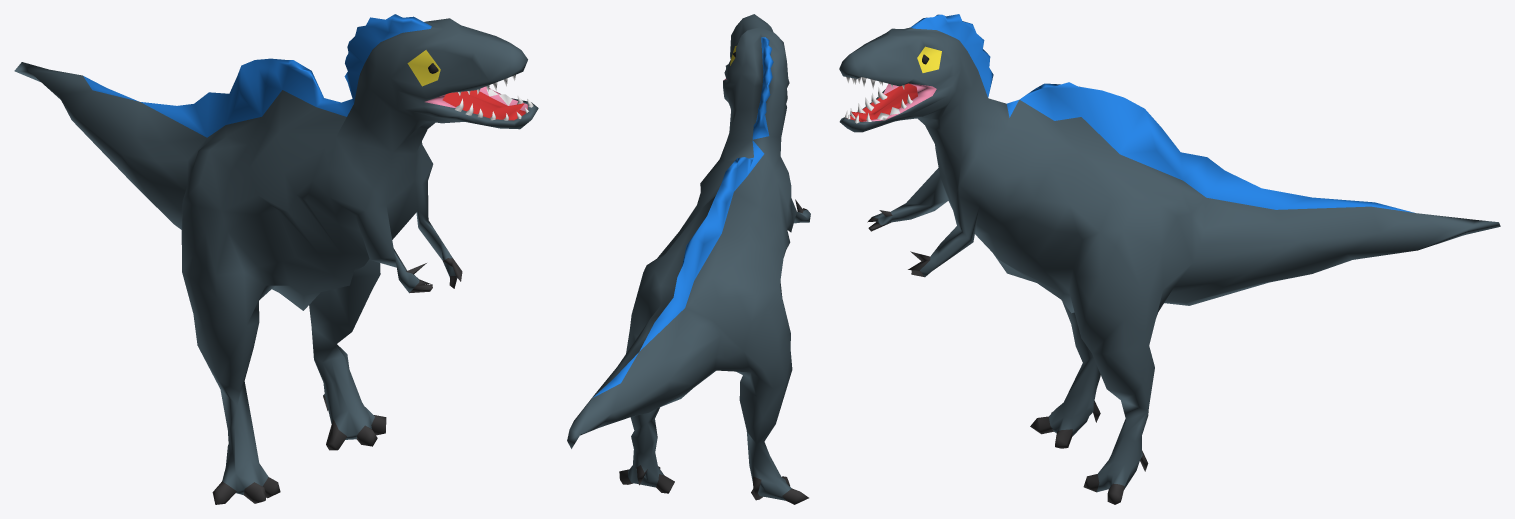
The model's file is dinosaur_002.gltf.
3 renders of one model, left to right at view 1: azimuth 30°, elevation 25°; view 2: azimuth 150°, elevation 25°; view 3: azimuth 270°, elevation 25°, orthographic. The views are drawn at different scales.
Visible parts, largest first — view 1: dinosaur_002; view 2: dinosaur_002; view 3: dinosaur_002.
Boxes of the visible parts, left/top/right/bottom form: dinosaur_002: left=14, top=14, right=538, bottom=504; dinosaur_002: left=567, top=14, right=810, bottom=504; dinosaur_002: left=839, top=14, right=1500, bottom=504.
Size of the model in its own units: 2.27 by 5.31 by 6.91.
1 material, 1 textured.
